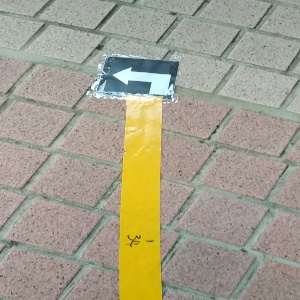left: (96, 56, 177, 97)
